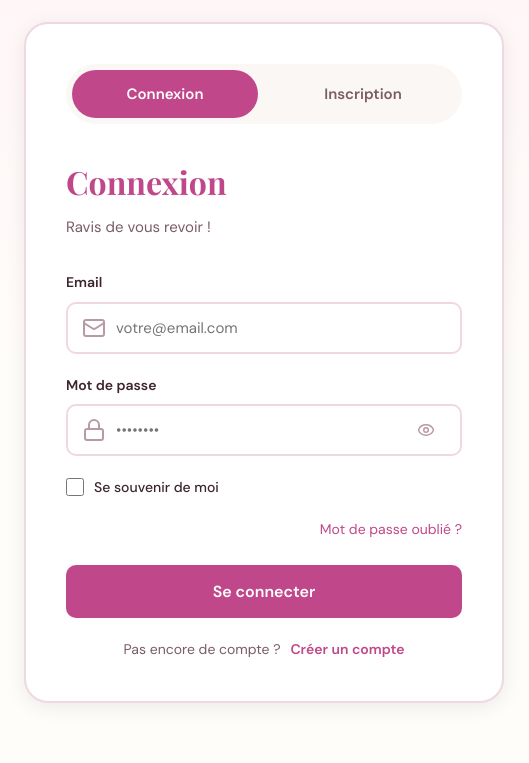
Test: Catalogue, contenu et parcours utilisateurs › ouvre le formulaire d’inscription
Click the button "Inscription" at (363, 94), box top-left (270, 70), bottom-right (456, 118)
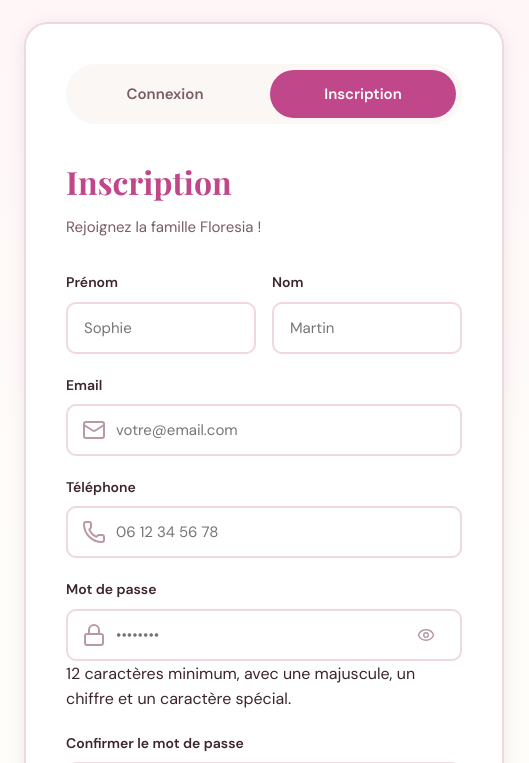
expect the heading "Inscription" is shown: met, box top-left (66, 160), bottom-right (232, 203)
expect the field with placeholder "Sophie" is shown: met, box top-left (66, 302), bottom-right (256, 354)
